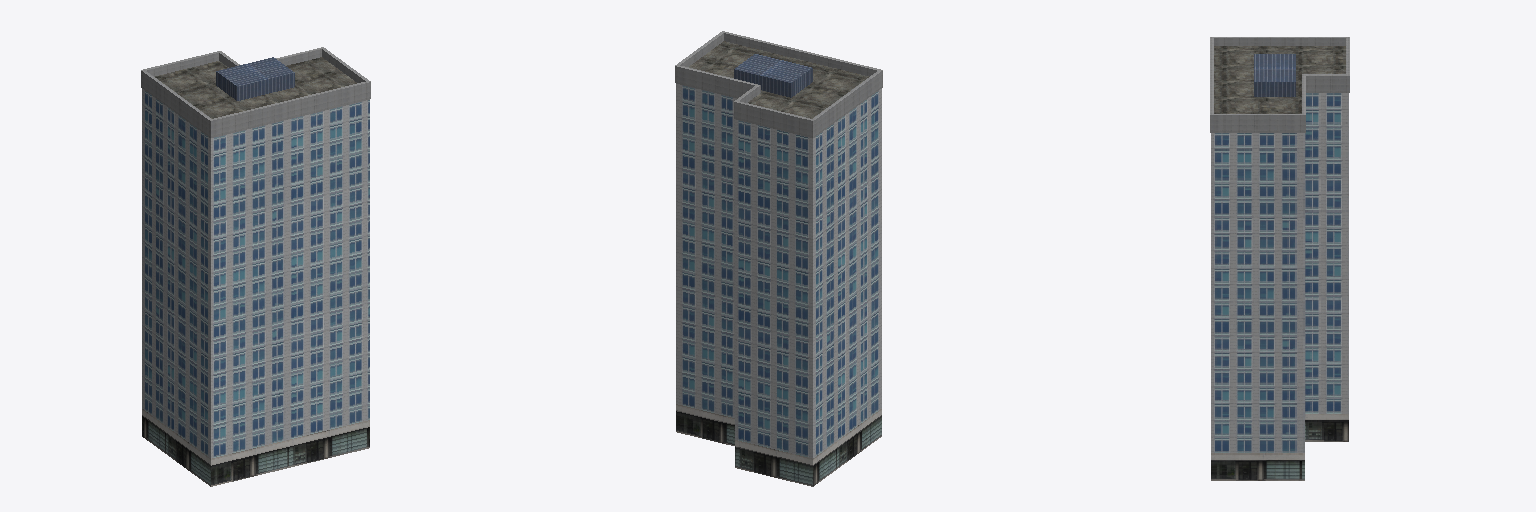
3 renders of one model, left to right at view 1: azimuth 30°, elevation 25°; view 2: azimuth 150°, elevation 25°; view 3: azimuth 270°, elevation 25°, orthographic.
Parts seen in each view (by area): view 1: building_31; view 2: building_31; view 3: building_31.
Part boxes in pixels (x1,y1,x2,y2): building_31: (141, 47, 370, 486); building_31: (675, 31, 882, 486); building_31: (1210, 37, 1349, 480).
Bounding box in the file's own units: 97.5 × 216 × 73.34.
1 materials, 1 textured.